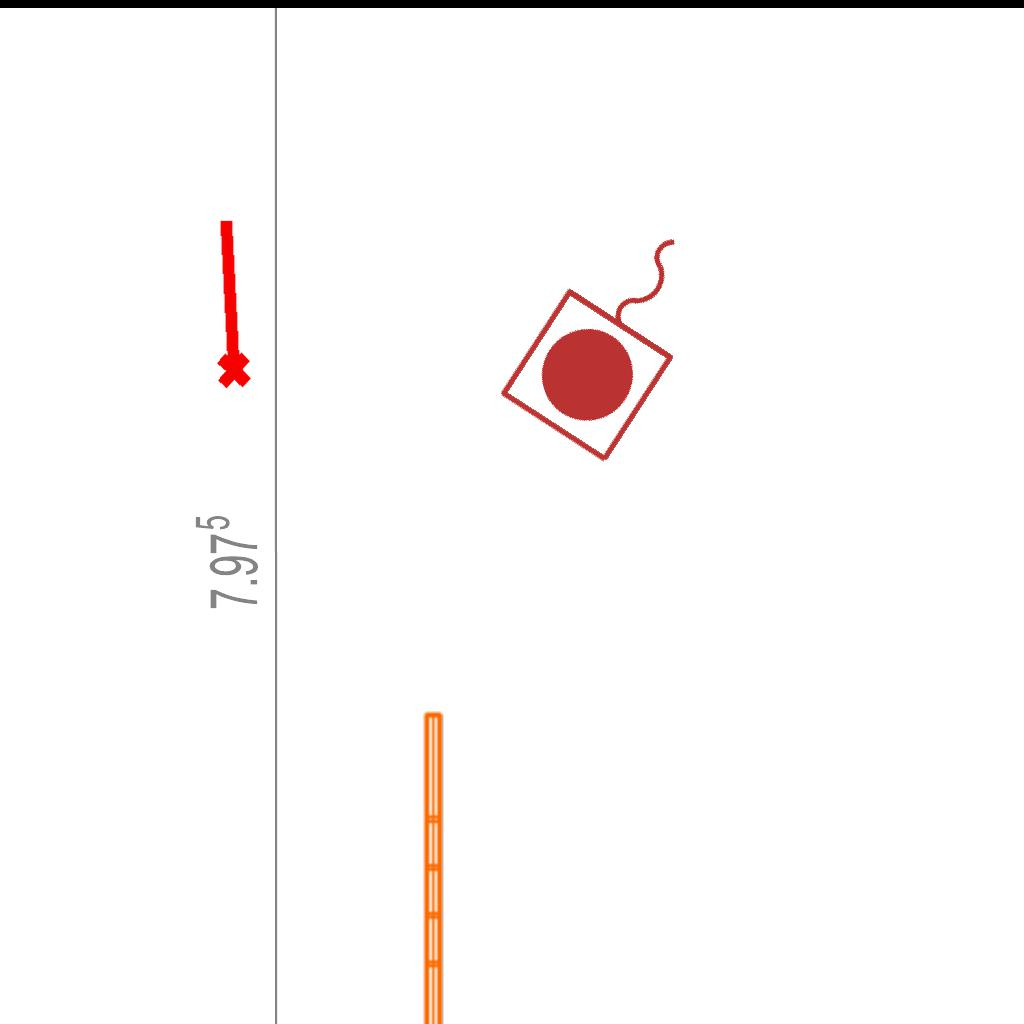ASR_Ansaugoeffnung: (200, 213, 256, 393)
Ambulanz_Pendelleuchte_LED: (418, 707, 474, 1024)
Zugtaster: (489, 192, 743, 476)
